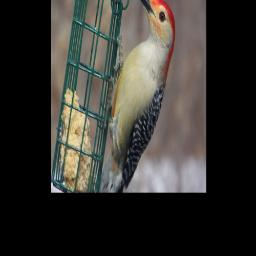Woodpecker: (101, 0, 175, 192)
